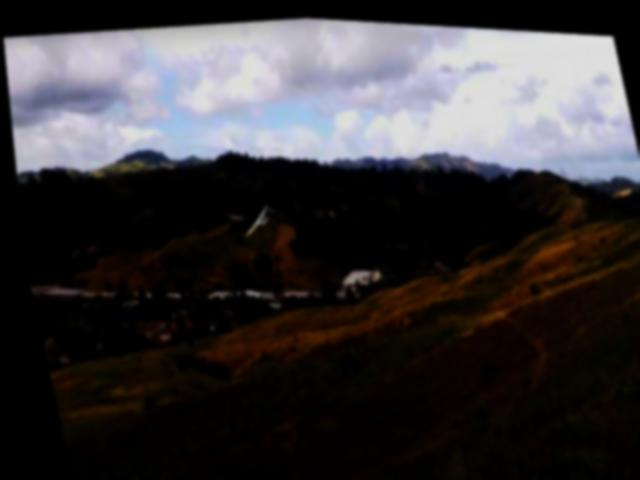iha: (234, 199, 270, 237)
